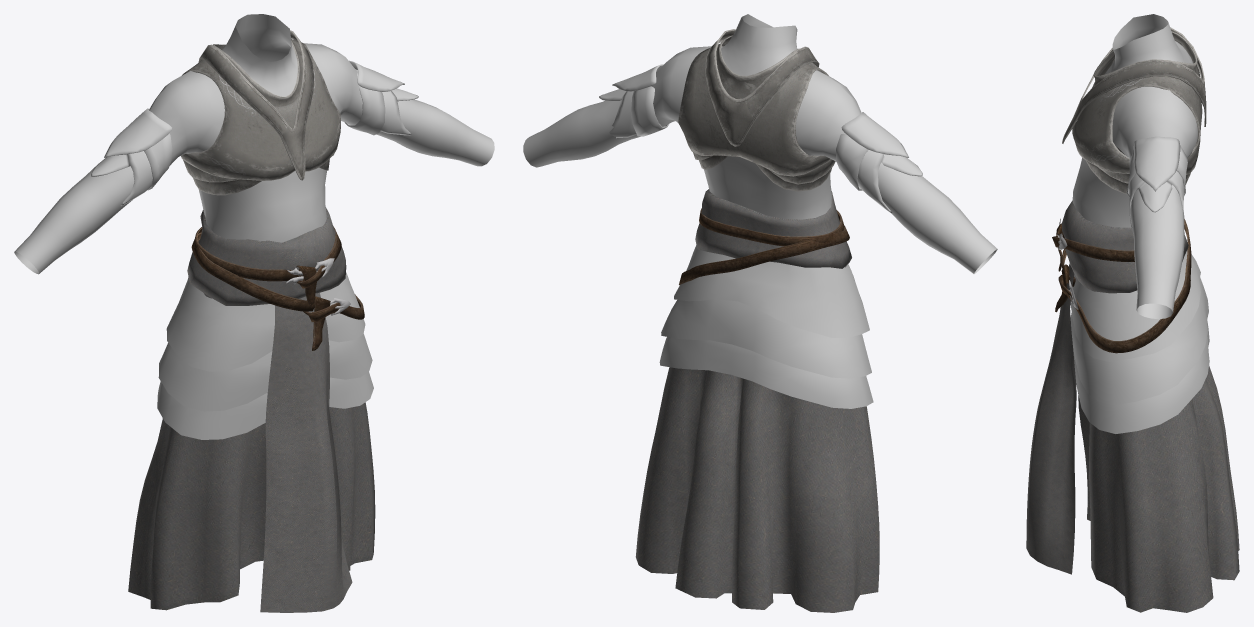
The model's file is rivendell_torso_scalemail_tier3_silver.fbx.
3 views of the same model, side by side, from view 1: azimuth 30°, elevation 25°; view 2: azimuth 150°, elevation 25°; view 3: azimuth 270°, elevation 25° (orthographic). The views are drawn at different scales.
Visible parts, largest first — view 1: rivendell_torso_scalemail_tier3_silver.4, rivendell_torso_scalemail_tier3_silver.1, rivendell_torso_scalemail_tier3_silver.0, rivendell_torso_scalemail_tier3_silver.3, rivendell_torso_scalemail_tier3_silver.2; view 2: rivendell_torso_scalemail_tier3_silver.0, rivendell_torso_scalemail_tier3_silver.4, rivendell_torso_scalemail_tier3_silver.3, rivendell_torso_scalemail_tier3_silver.1, rivendell_torso_scalemail_tier3_silver.2; view 3: rivendell_torso_scalemail_tier3_silver.4, rivendell_torso_scalemail_tier3_silver.0, rivendell_torso_scalemail_tier3_silver.1, rivendell_torso_scalemail_tier3_silver.3, rivendell_torso_scalemail_tier3_silver.2.
Boxes of the visible parts, box(x1,y1,x2,y2) form: rivendell_torso_scalemail_tier3_silver.4: box(14, 14, 494, 439); rivendell_torso_scalemail_tier3_silver.1: box(187, 207, 364, 612); rivendell_torso_scalemail_tier3_silver.0: box(128, 293, 375, 610); rivendell_torso_scalemail_tier3_silver.3: box(181, 30, 340, 195); rivendell_torso_scalemail_tier3_silver.2: box(91, 60, 418, 206); rivendell_torso_scalemail_tier3_silver.0: box(635, 264, 879, 612); rivendell_torso_scalemail_tier3_silver.4: box(523, 14, 997, 408); rivendell_torso_scalemail_tier3_silver.3: box(678, 29, 835, 191); rivendell_torso_scalemail_tier3_silver.1: box(679, 189, 851, 285); rivendell_torso_scalemail_tier3_silver.2: box(599, 64, 922, 212); rivendell_torso_scalemail_tier3_silver.4: box(1070, 14, 1209, 433); rivendell_torso_scalemail_tier3_silver.0: box(1078, 365, 1239, 612); rivendell_torso_scalemail_tier3_silver.1: box(1026, 200, 1191, 574); rivendell_torso_scalemail_tier3_silver.3: box(1062, 27, 1206, 194); rivendell_torso_scalemail_tier3_silver.2: box(1126, 136, 1187, 228).
Bounding box in the file's own units: 1.27 × 0.5129 × 1.44.
